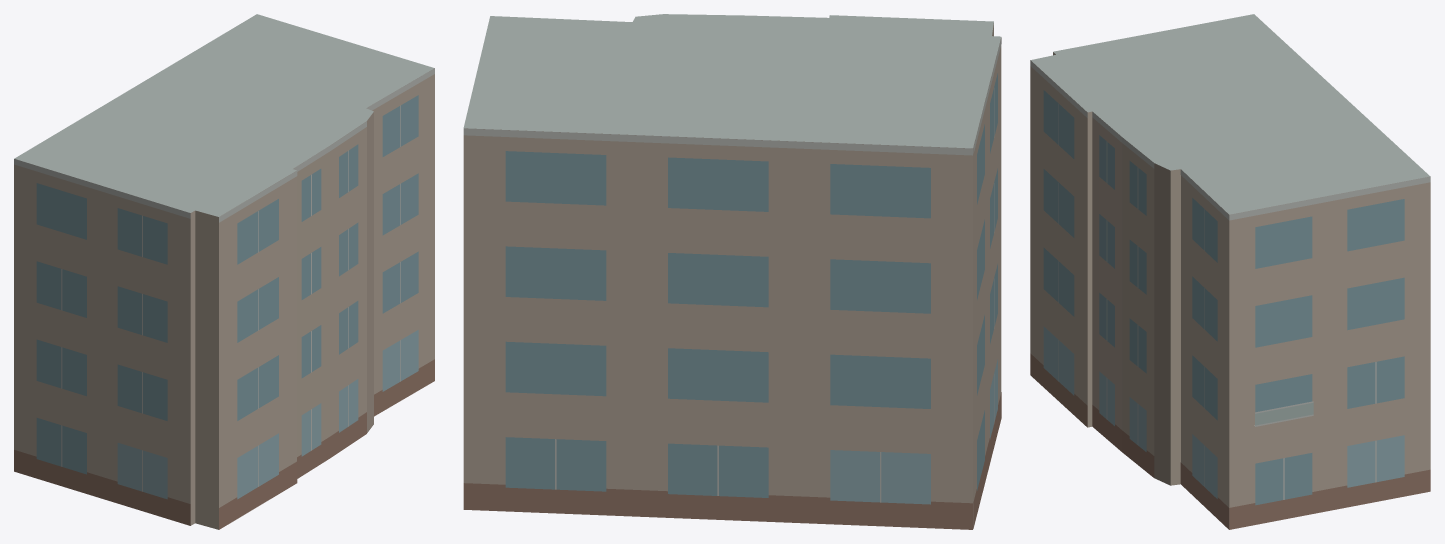
File: survey-upis-32977580.glb
3 views of the same model, side by side, from view 1: azimuth 30°, elevation 25°; view 2: azimuth 150°, elevation 25°; view 3: azimuth 270°, elevation 25° (orthographic). The views are drawn at different scales.
Visible parts, largest first — view 1: survey-upis-32977580.tmp; view 2: survey-upis-32977580.tmp; view 3: survey-upis-32977580.tmp.
Part boxes in pixels (x1,y1,x2,y2): survey-upis-32977580.tmp: (14,14,434,529); survey-upis-32977580.tmp: (463,14,1001,529); survey-upis-32977580.tmp: (1030,14,1430,529).
Size of the model in its own units: 17.97 by 13.15 by 15.14.
